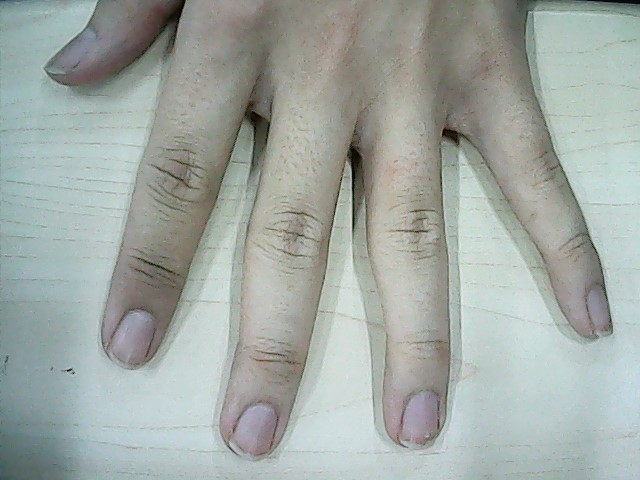nail: (105, 309, 158, 370), (228, 401, 280, 460), (41, 28, 99, 75), (401, 387, 440, 451), (587, 283, 612, 339)
